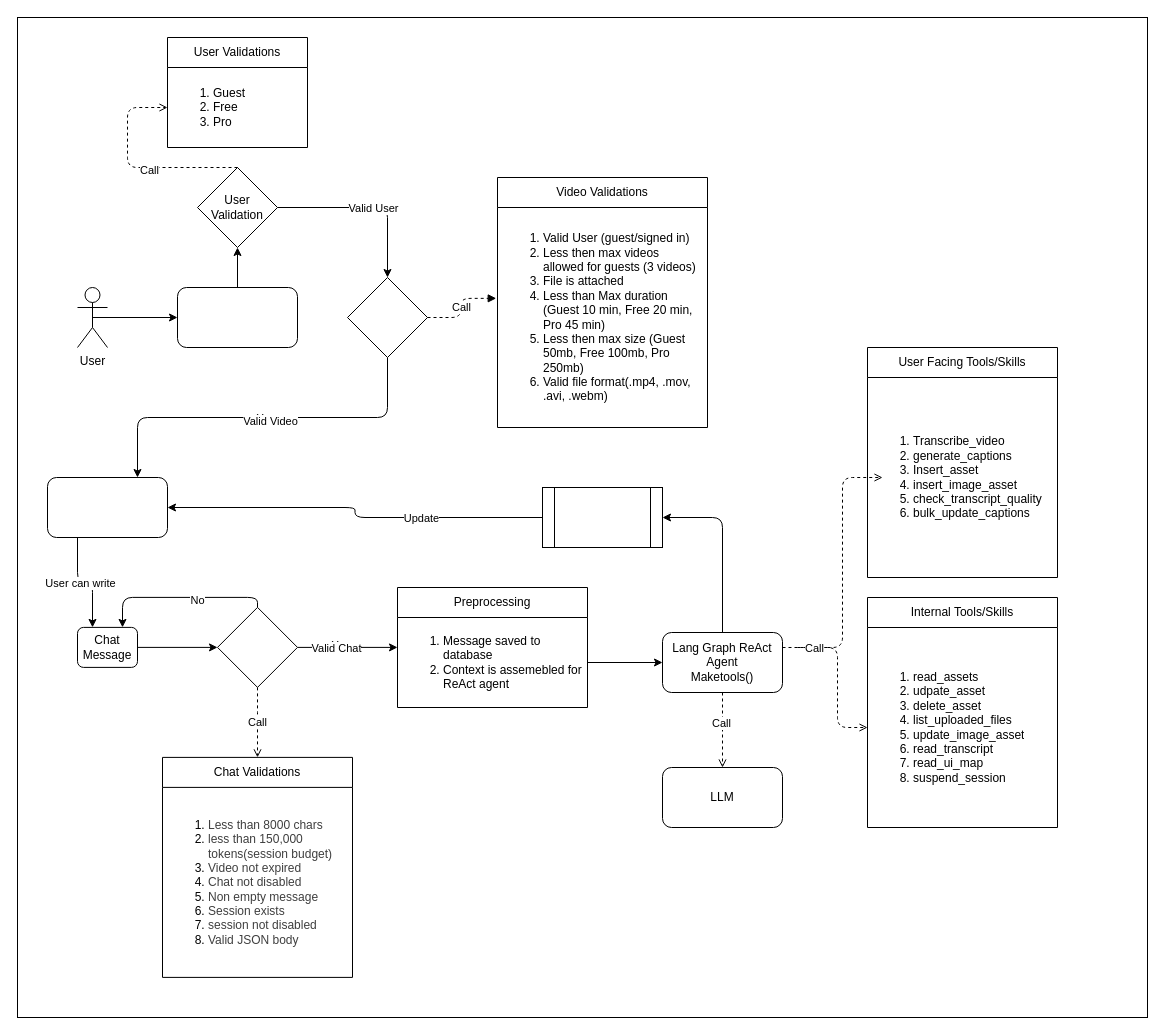
Some shapes in this 1165 by 1035 pixel diagram are drawn without their labels. Each missing label, with the centre of its shape:
"Chat Screen and Video canvas" goes at (x=107, y=507).
"Chat Validation" goes at (x=257, y=646).
"Update Canvas & Chat Process" goes at (x=602, y=517).
"Upload Video" goes at (x=237, y=317).
"Video Validation" goes at (x=387, y=317).
